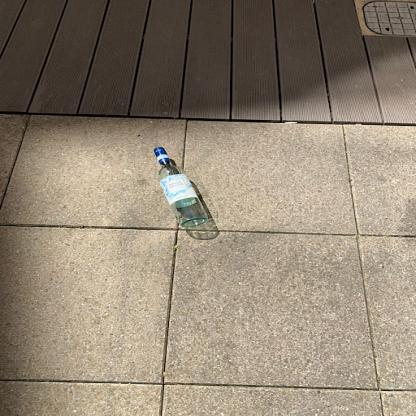trash: (150, 144, 210, 236)
